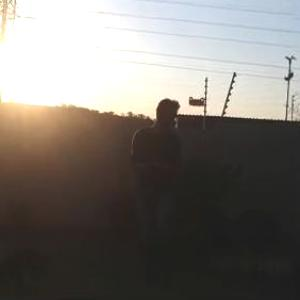follow: (124, 94, 189, 299)
